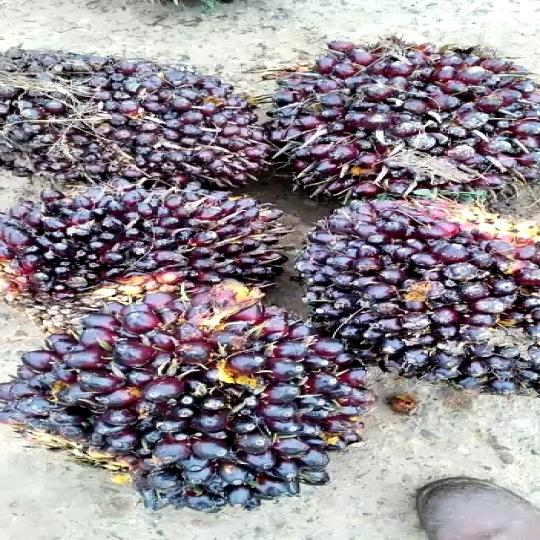kurang masak: (0, 301, 368, 515), (264, 186, 540, 406), (0, 46, 277, 214), (271, 39, 540, 205), (0, 177, 301, 312)
